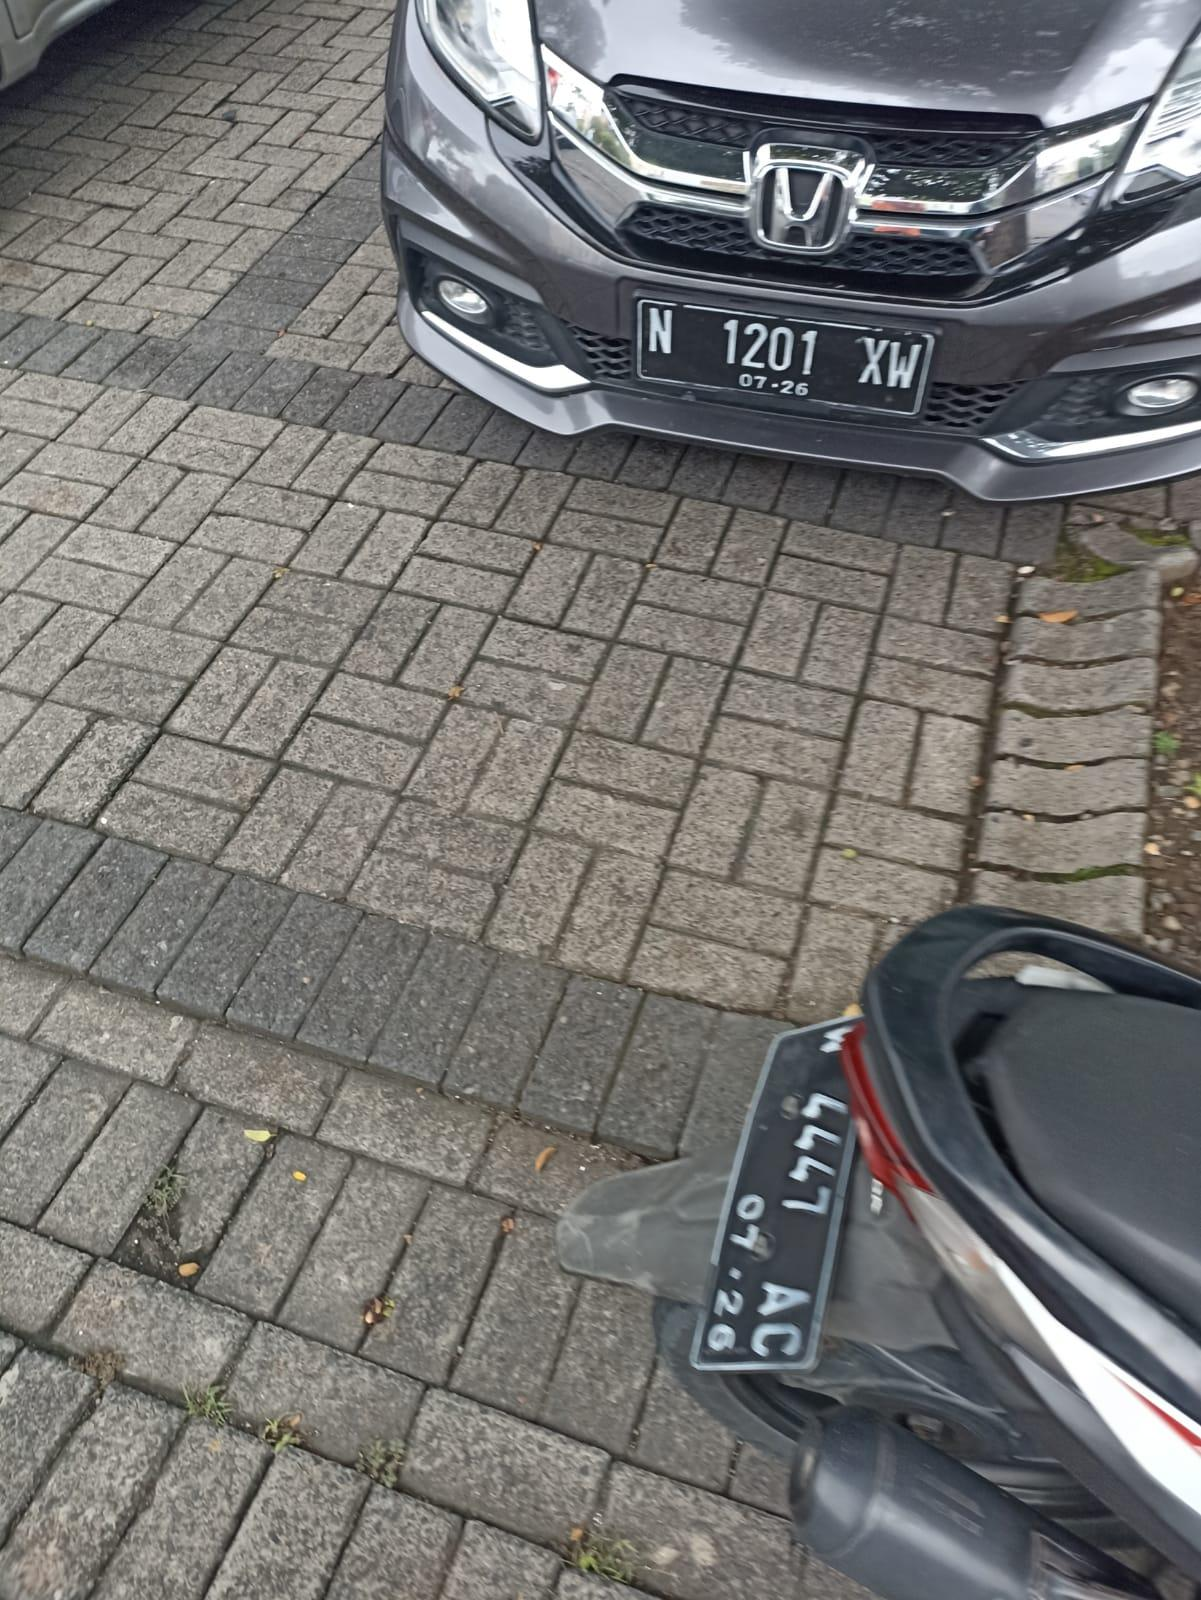plat: (637, 300, 935, 415)
